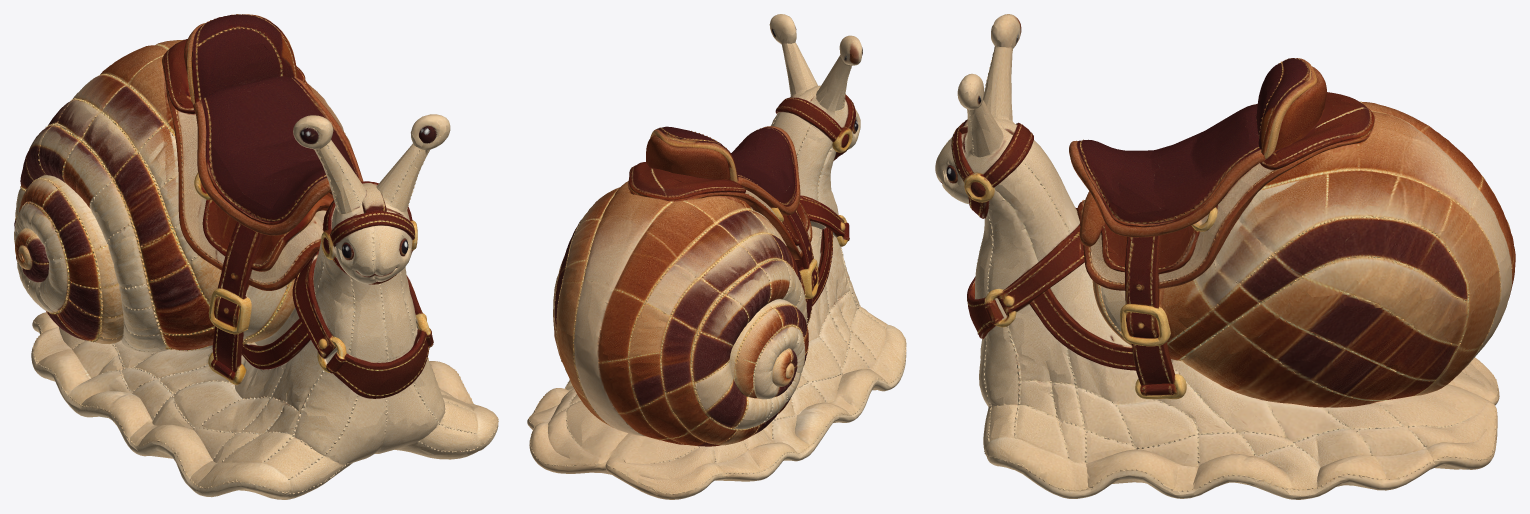
Rendered from snail.glb.
3 renders of one model, left to right at view 1: azimuth 30°, elevation 25°; view 2: azimuth 150°, elevation 25°; view 3: azimuth 270°, elevation 25°, orthographic. The views are drawn at different scales.
Size of the model in its own units: 1.21 by 1.4 by 1.9.
Materials: 1 (1 with a texture image).
